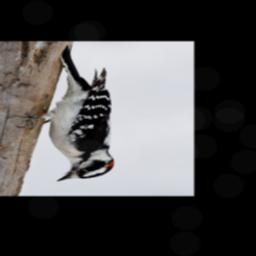Woodpecker: (6, 44, 117, 183)
